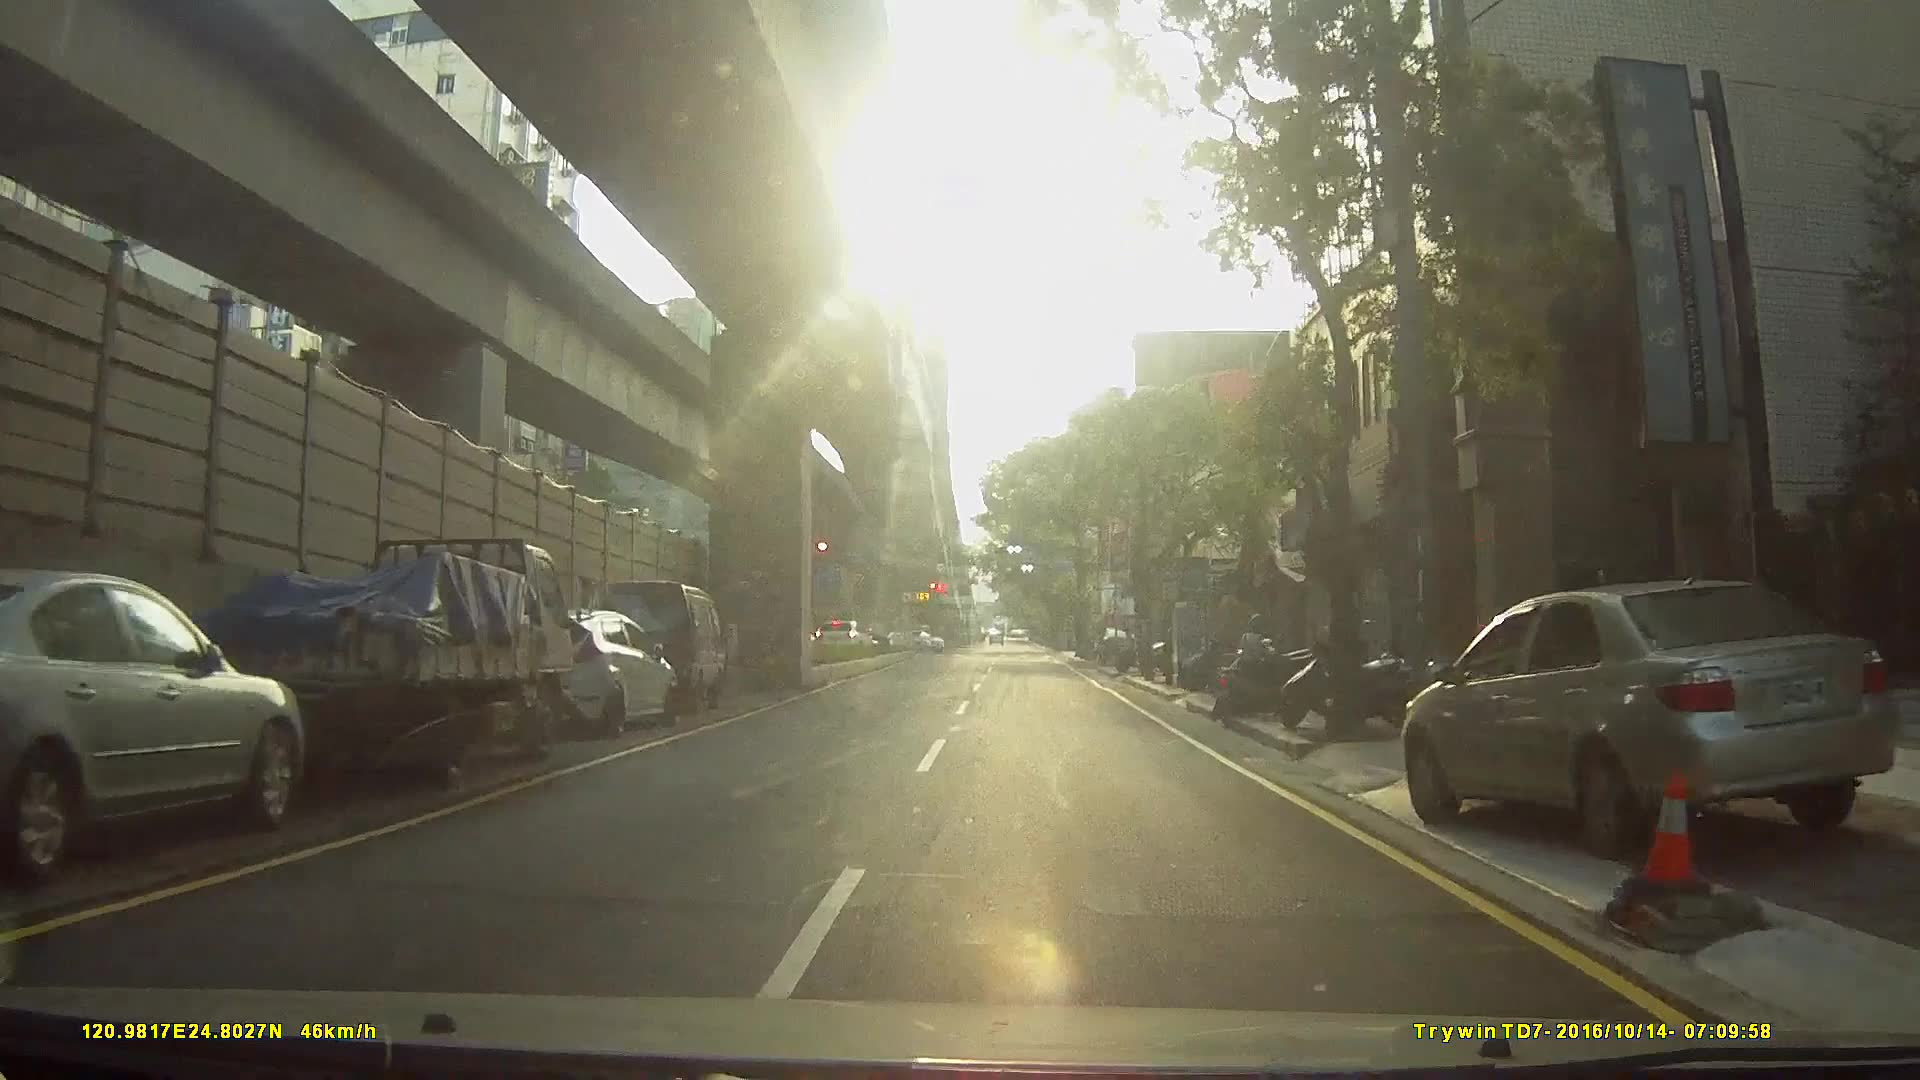rider: (1213, 611, 1310, 731)
vehicle: (1388, 575, 1919, 871), (145, 528, 600, 796), (2, 555, 314, 879), (492, 603, 675, 738), (586, 576, 724, 714), (810, 618, 870, 656), (1093, 627, 1139, 665)
